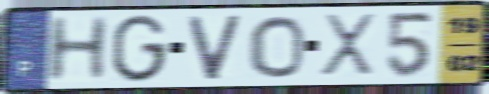5: (383, 9, 436, 81)
G: (108, 12, 170, 84)
H: (43, 14, 112, 85)
O: (246, 13, 307, 80)
V: (184, 12, 245, 82)
X: (317, 12, 378, 80)
